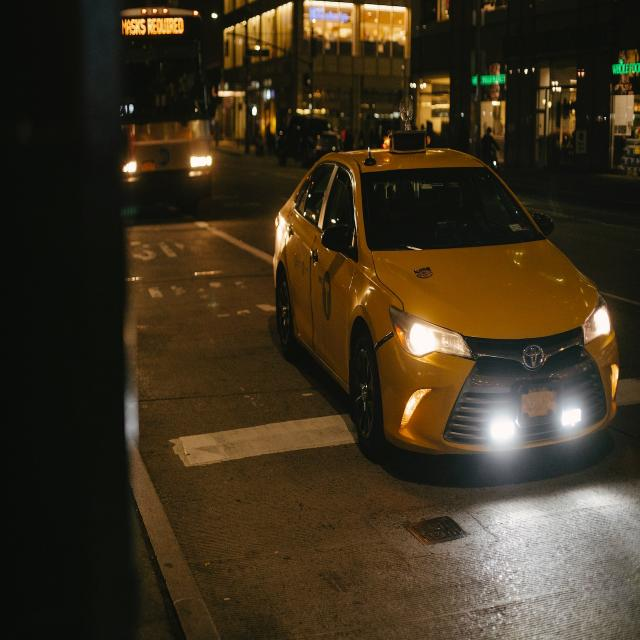bus: (113, 5, 216, 205)
car: (271, 132, 621, 470)
